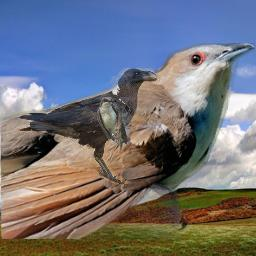Crow: (18, 68, 160, 185)
Cuckoo: (1, 43, 255, 239)
Swallow: (97, 97, 130, 147)
